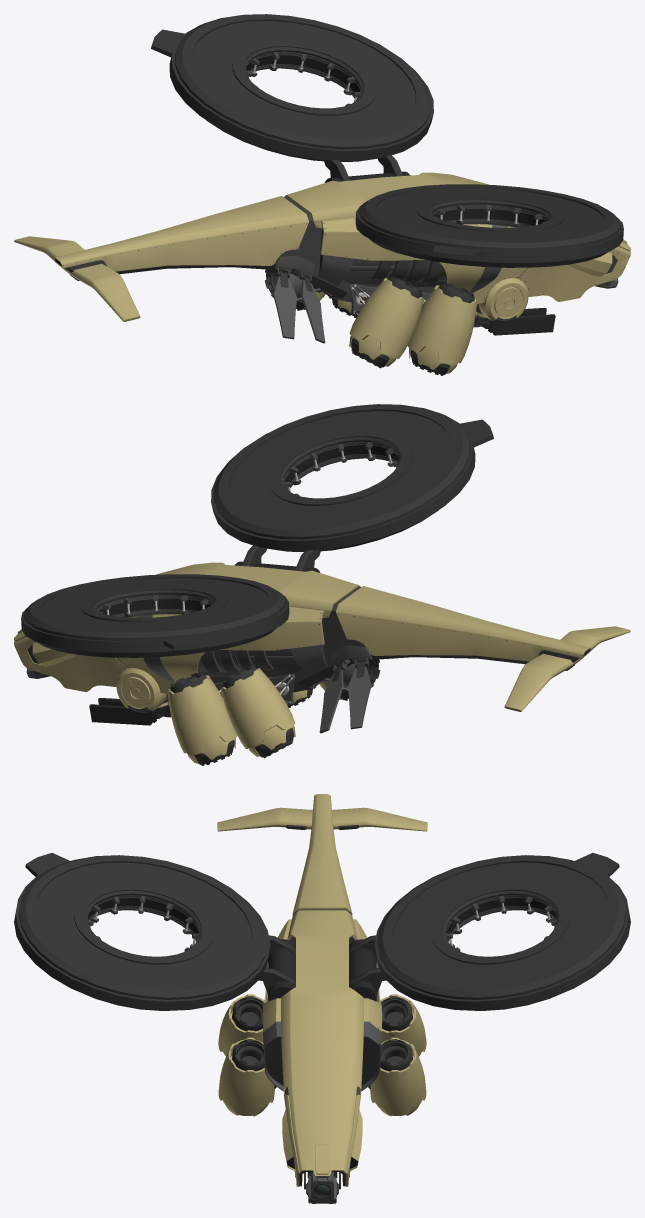
Rendered from drone.fbx.
The picture shows the model from 3 angles, top to bottom: view 1: azimuth 30°, elevation 25°; view 2: azimuth 150°, elevation 25°; view 3: azimuth 270°, elevation 25°; orthographic projection. The views are drawn at different scales.
Parts seen in each view (by area): view 1: body.009, body, Cube.010, body.002, body.001, Cube.002, body.029, body.030, body.023, body.018, Cube.011, body.004 (+4 smaller); view 2: body.009, body, Cube.010, body.002, body.001, Cube.002, body.029, body.030, body.023, body.018, Cube.011, body.004 (+4 smaller); view 3: body.009, body, Cube.010, Cube.011, body.001, body.029, body.036, body.030, body.008, body.002, body.032, body.039.
Part boxes in pixels (x1,y1,x2,y2): body.009: [151, 14, 623, 267]; body: [53, 172, 630, 303]; Cube.010: [297, 278, 477, 373]; body.002: [320, 216, 492, 292]; body.001: [14, 236, 140, 321]; Cube.002: [55, 196, 630, 302]; body.029: [246, 51, 548, 227]; body.030: [246, 55, 546, 225]; body.023: [273, 277, 325, 343]; body.018: [478, 278, 528, 321]; Cube.011: [296, 276, 474, 374]; body.004: [343, 258, 446, 287]; body.009: [21, 404, 493, 657]; body: [14, 562, 591, 693]; Cube.010: [167, 668, 347, 763]; body.002: [152, 606, 324, 682]; body.001: [504, 626, 630, 711]; Cube.002: [14, 586, 589, 692]; body.029: [96, 441, 398, 617]; body.030: [98, 445, 398, 615]; body.023: [319, 667, 371, 733]; body.018: [116, 668, 166, 711]; Cube.011: [170, 666, 348, 764]; body.004: [198, 648, 301, 677]; body.009: [14, 853, 630, 1010]; body: [281, 794, 363, 1186]; Cube.010: [218, 994, 426, 1116]; Cube.011: [232, 997, 412, 1071]; body.001: [217, 807, 427, 831]; body.029: [88, 895, 556, 951]; body.036: [268, 939, 376, 1001]; body.030: [88, 898, 556, 933]; body.008: [265, 1037, 379, 1168]; body.002: [262, 919, 382, 1032]; body.032: [263, 1021, 381, 1091]; body.039: [307, 1172, 337, 1203].
Bounding box in the file's own units: 794 × 325 × 780.
